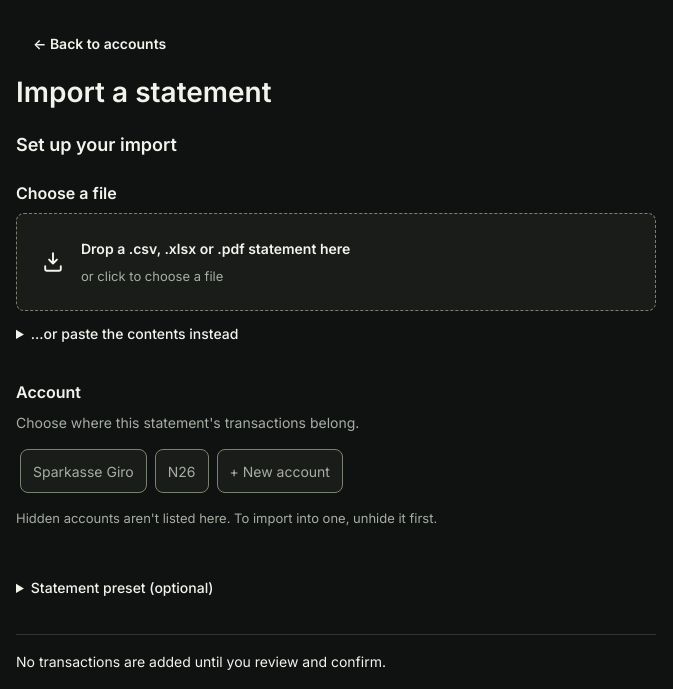
the setup steps › keeps destination explicit and moves presets into an optional disclosure
The image size is (673, 689).
Expected: the button "N26" is shown, [155, 449, 208, 493]
Expected: the headings read "Choose a file", "Account", in this order, [16, 182, 117, 202]; [16, 382, 81, 402]
Click the heading "Statement preset (optional)": (122, 587) [31, 578, 213, 596]
(page scrolled)
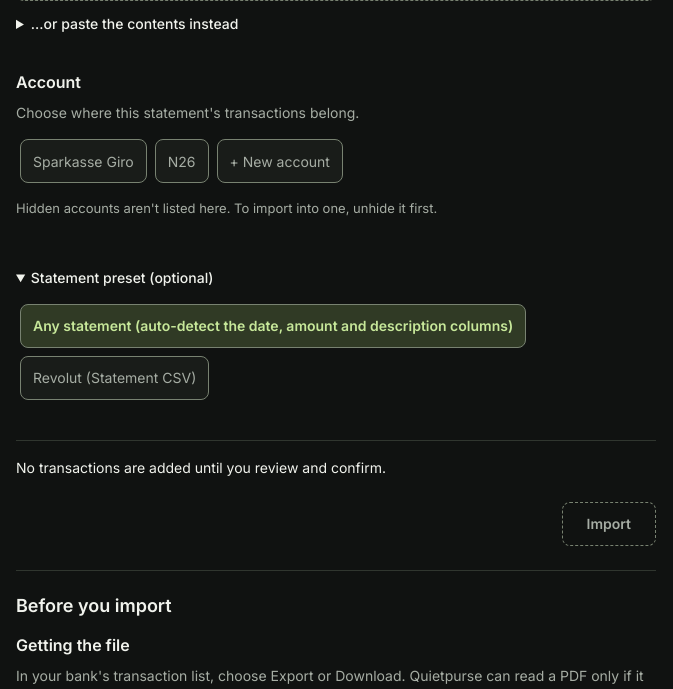
Expected: the element named "Statement preset" is shown, [20, 304, 526, 400]
